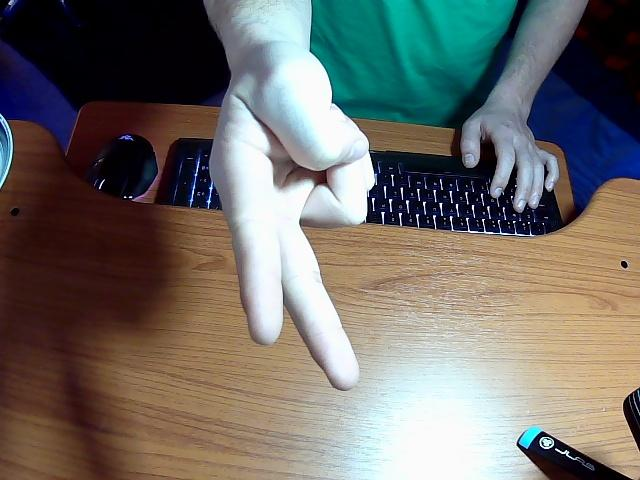scissors: (205, 0, 584, 389)
